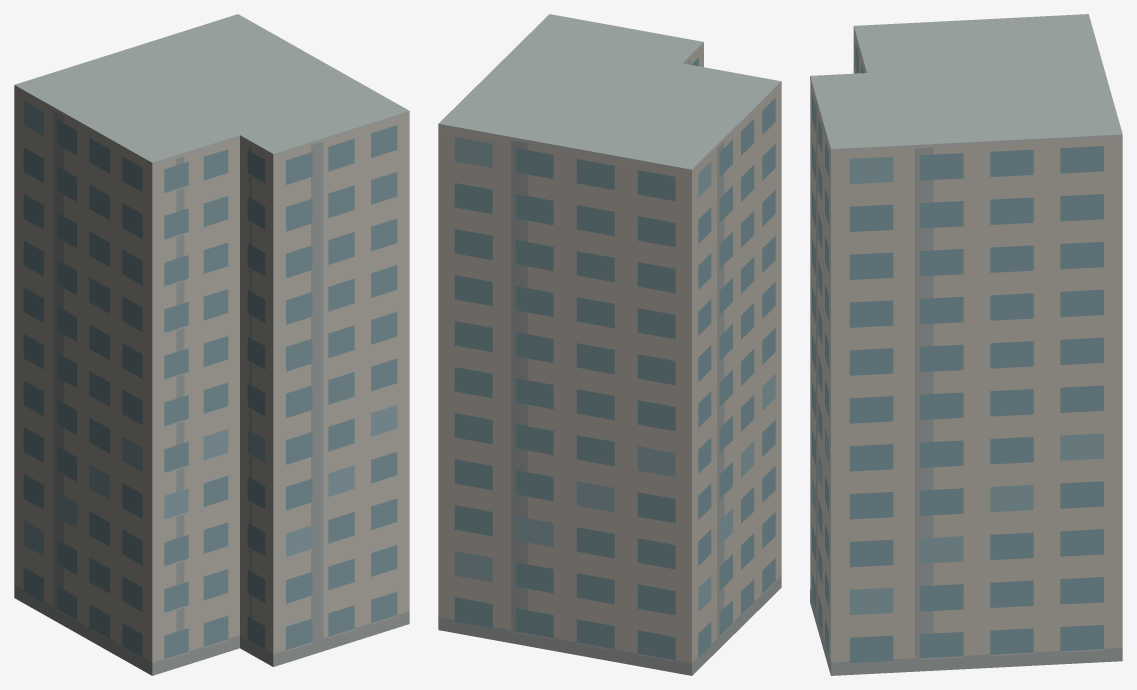
Rendered from residential-904e77f7-f183-4fa8-a851-8984d11d2f89.glb.
3 renders of one model, left to right at view 1: azimuth 30°, elevation 25°; view 2: azimuth 150°, elevation 25°; view 3: azimuth 270°, elevation 25°, orthographic. The views are drawn at different scales.
Visible parts, largest first — view 1: residential-904e77f7-f183-4fa8-a851-8984d11d2f89.tmp; view 2: residential-904e77f7-f183-4fa8-a851-8984d11d2f89.tmp; view 3: residential-904e77f7-f183-4fa8-a851-8984d11d2f89.tmp.
Part boxes in pixels (x1,y1,x2,y2): residential-904e77f7-f183-4fa8-a851-8984d11d2f89.tmp: (14,14,409,675); residential-904e77f7-f183-4fa8-a851-8984d11d2f89.tmp: (438,14,781,675); residential-904e77f7-f183-4fa8-a851-8984d11d2f89.tmp: (810,14,1122,675).
Size of the model in its own units: 20.38 by 37 by 19.92.
